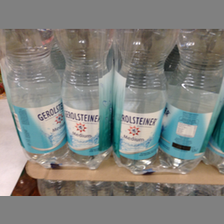water: (111, 29, 177, 173), (1, 30, 68, 165), (53, 29, 117, 170), (164, 30, 224, 172)
